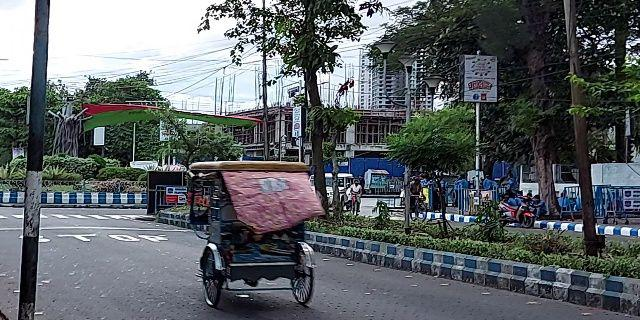Rickshaw: (182, 155, 330, 308)
